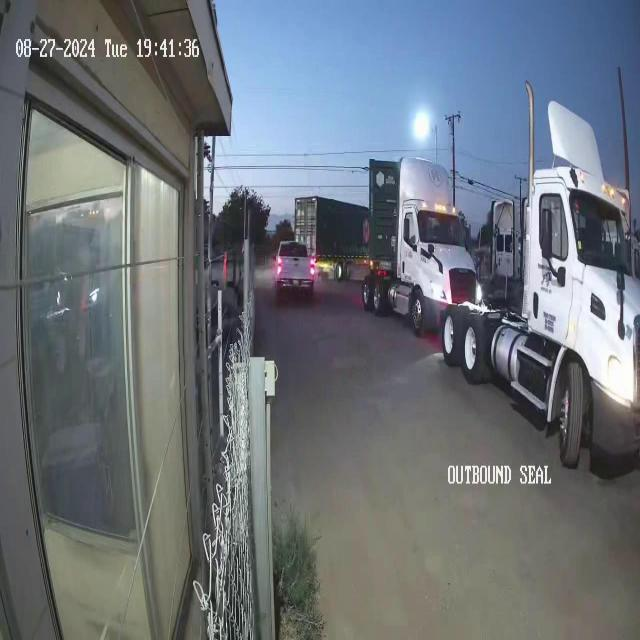TRUCK_IN: (437, 81, 639, 479), (363, 154, 479, 338)
